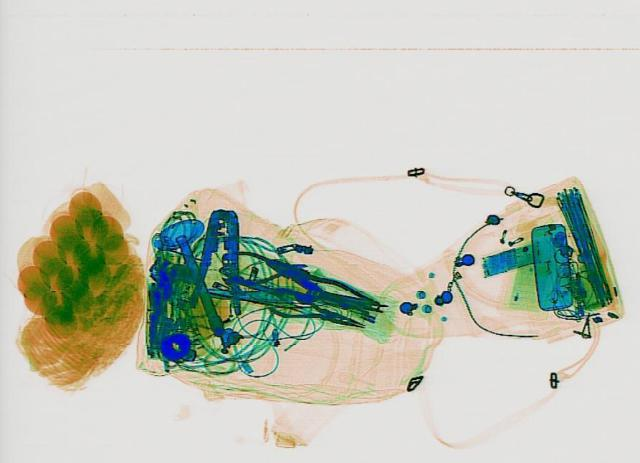Pliers: (257, 282, 373, 337), (188, 208, 248, 313), (220, 250, 310, 286)
